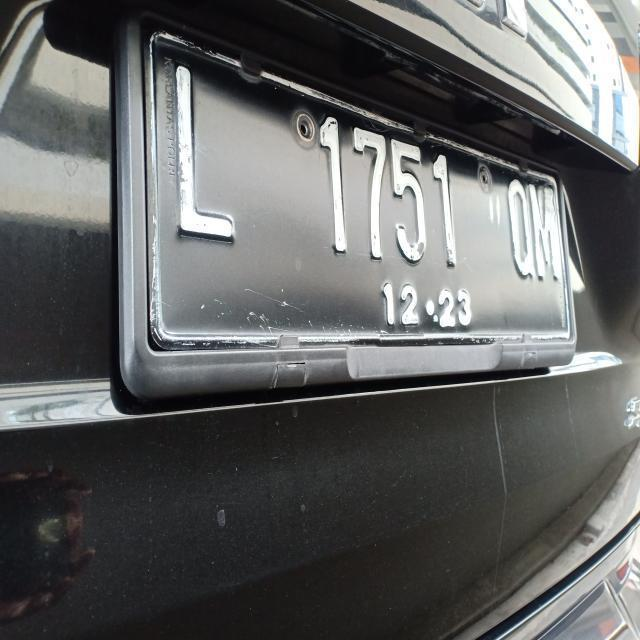1: (308, 96, 350, 275), (429, 148, 468, 284)
5: (388, 131, 429, 272)
7: (351, 122, 389, 262)
L: (168, 49, 237, 260)
M: (528, 179, 562, 284)
Q: (502, 172, 534, 286)
